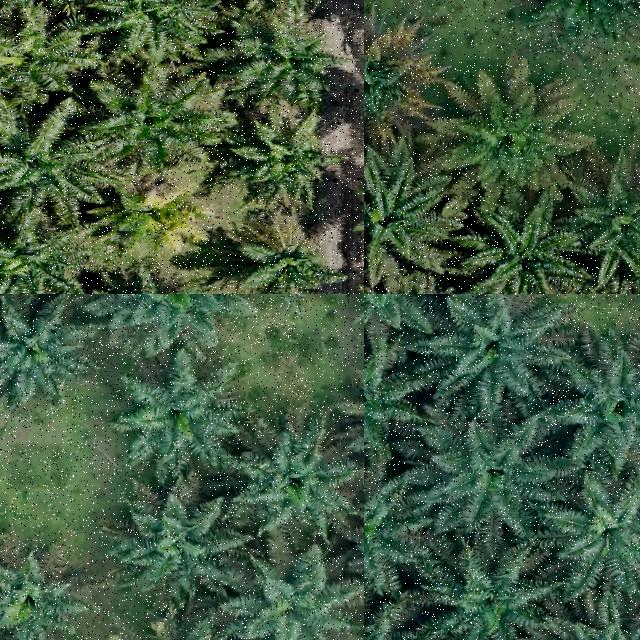Ganoderma: (106, 183, 200, 245)
